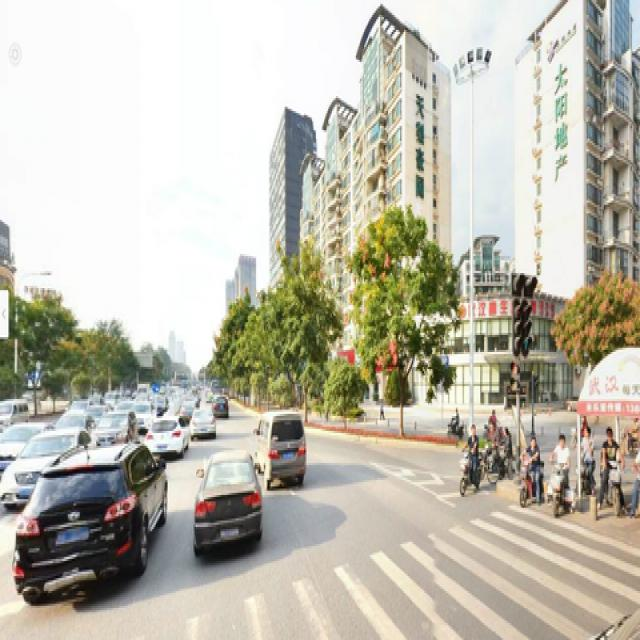koel: (357, 219, 443, 426)
